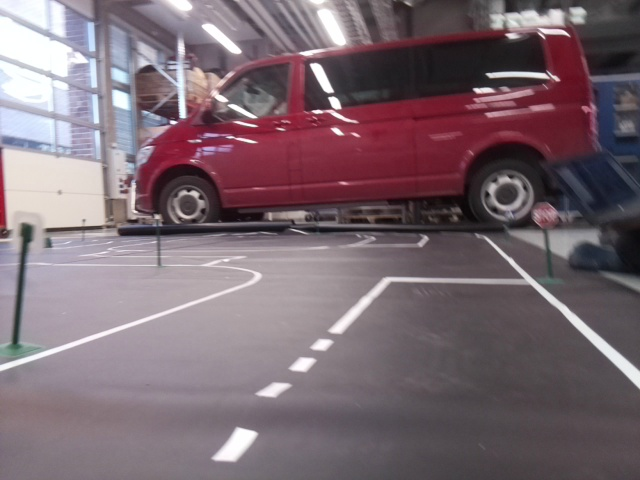Stop: (529, 202, 556, 228)
